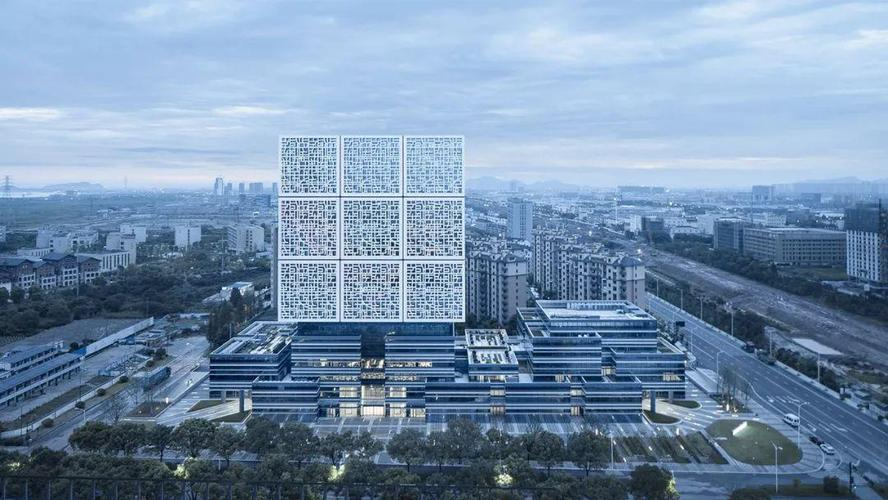buildings: (215, 308, 698, 436), (263, 118, 483, 319), (524, 214, 653, 300)
sky_cloud: (0, 13, 887, 183)
